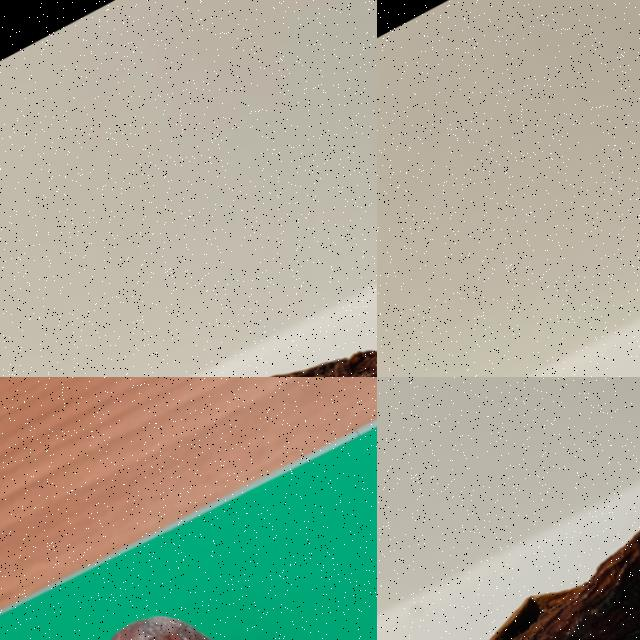Fine_cocoabeans: (0, 520, 372, 639)
Flat_cocoabeans: (377, 438, 639, 639), (72, 247, 376, 376), (440, 276, 639, 376)
